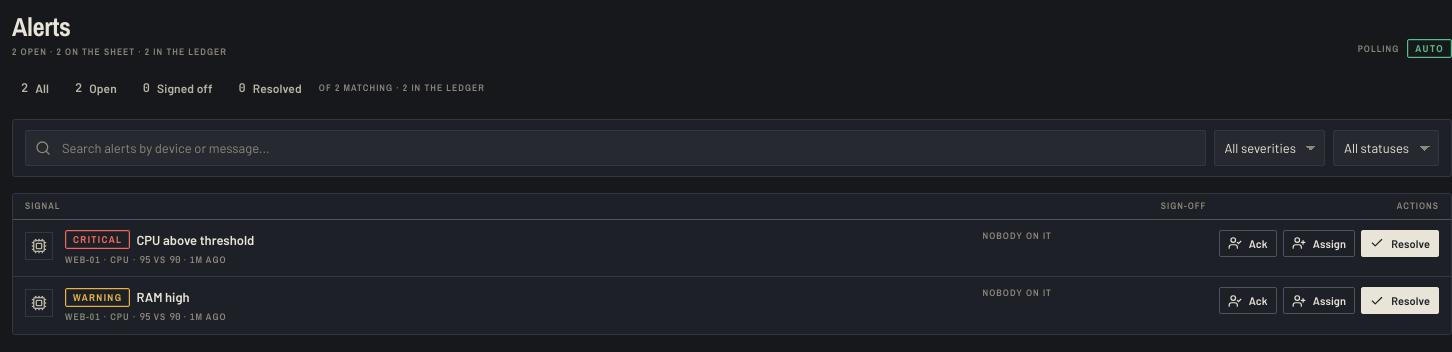
Scenario: Alerts page › filters by severity in the browser, over the whole collection
Expected: the text "CPU above threshold" is shown, x1=136 y1=230 x2=254 y2=250
Select "Warning" in the dropdown named "filter by severity". click: x=1270, y=148
box: x1=1214 y1=130 x2=1325 y2=166
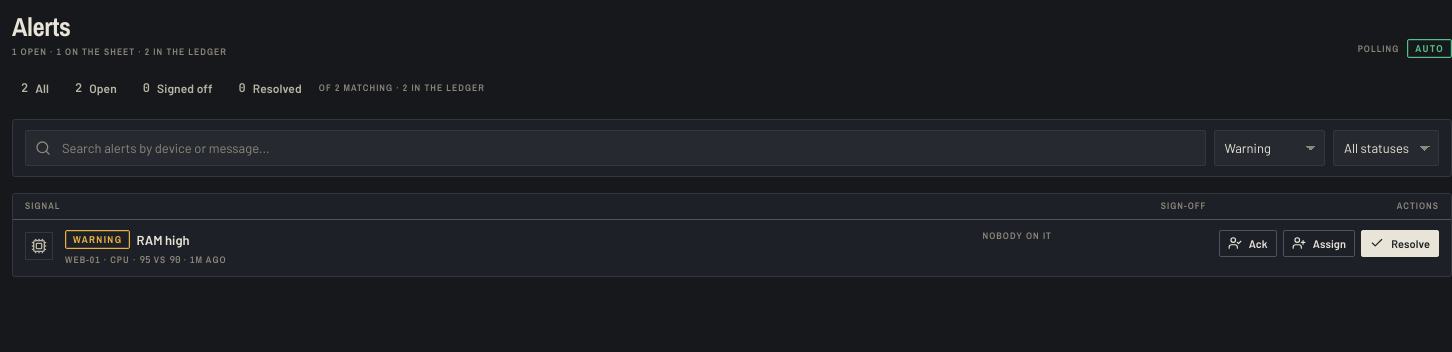
Expected: the text "RAM high" is shown, x1=136 y1=230 x2=190 y2=250
Result: the text "CPU above threshold" is gone
